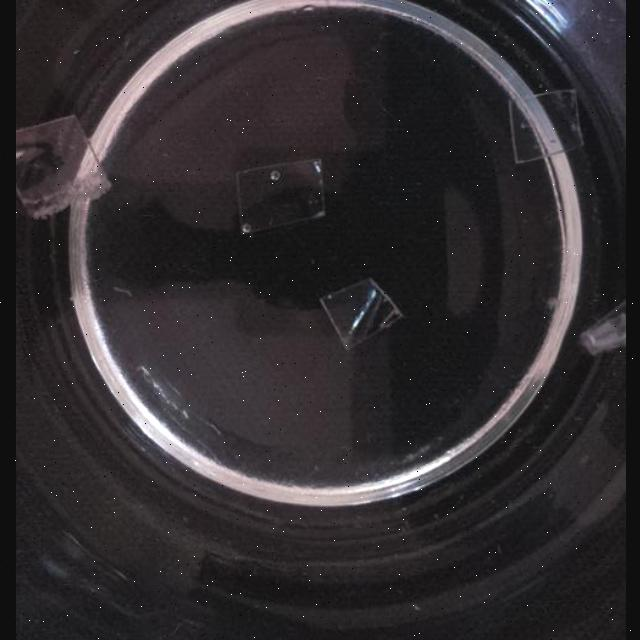Film: (15, 110, 116, 220), (232, 157, 332, 241), (318, 276, 404, 350), (503, 88, 583, 166), (574, 280, 624, 358)
